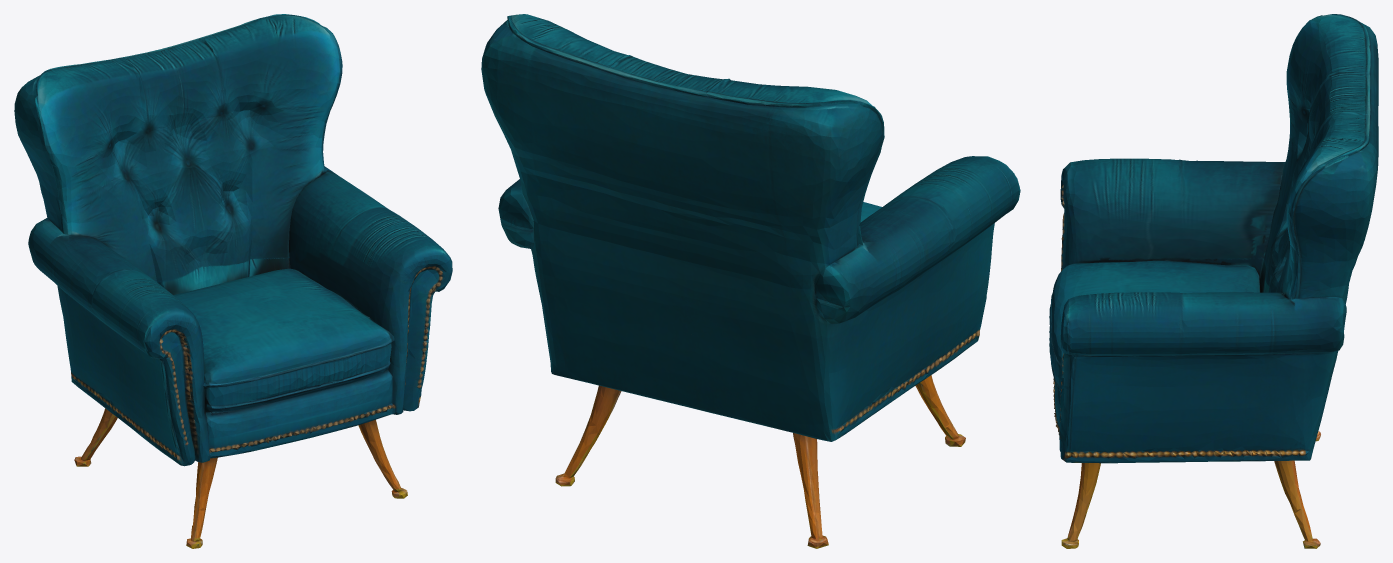
Rendered from chair2.fbx.
The picture shows the model from 3 angles, left to right: view 1: azimuth 30°, elevation 25°; view 2: azimuth 150°, elevation 25°; view 3: azimuth 270°, elevation 25°; orthographic projection. The views are drawn at different scales.
Visible parts, largest first — view 1: temp; view 2: temp; view 3: temp.
Part boxes in pixels (x1,y1,x2,y2): temp: (14,14,452,548); temp: (481,14,1020,548); temp: (1049,14,1378,548).
Size of the model in its own units: 171 by 200 by 146.
Materials: 1 (1 with a texture image).
